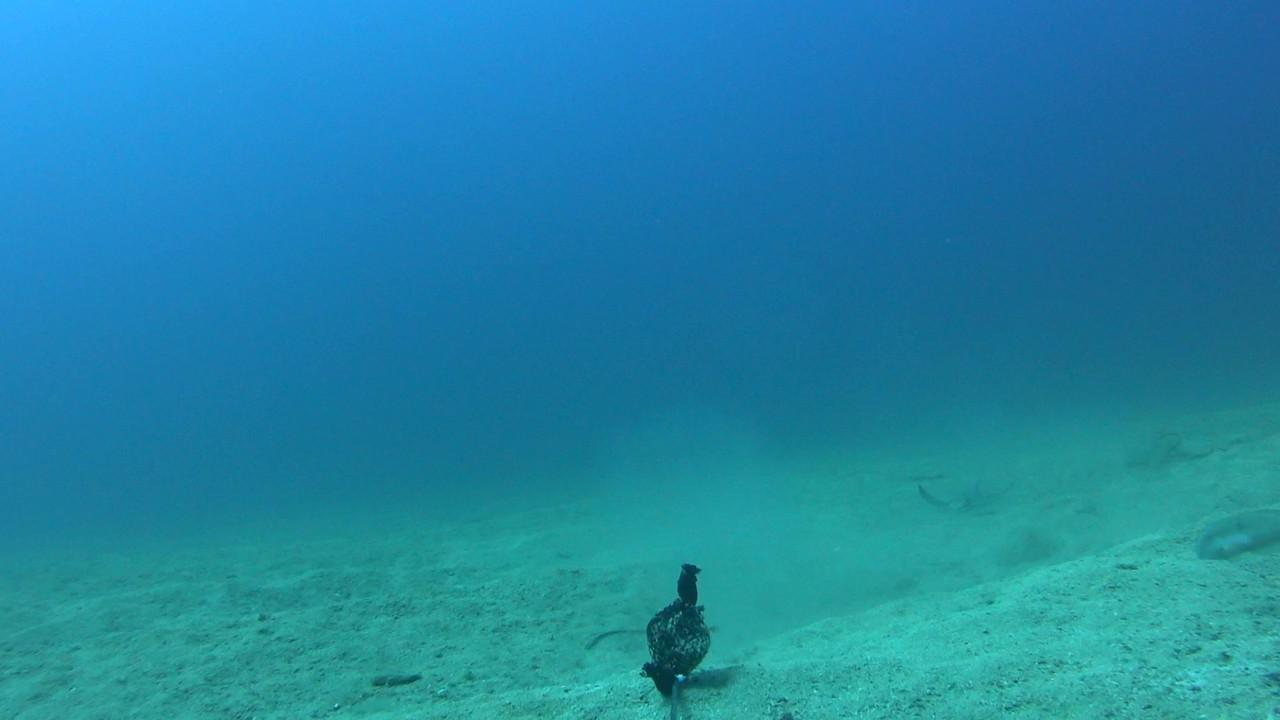myliobatis: (903, 458, 1039, 518)
